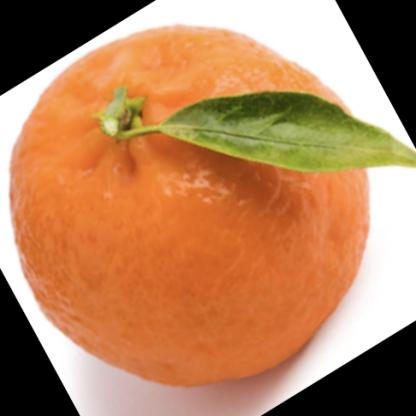fresh: (11, 26, 373, 385)
